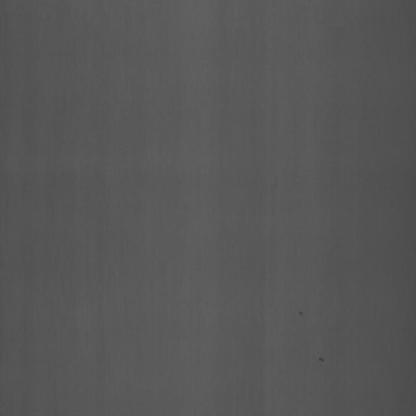inclusion: (294, 302, 310, 326), (315, 354, 327, 369)
